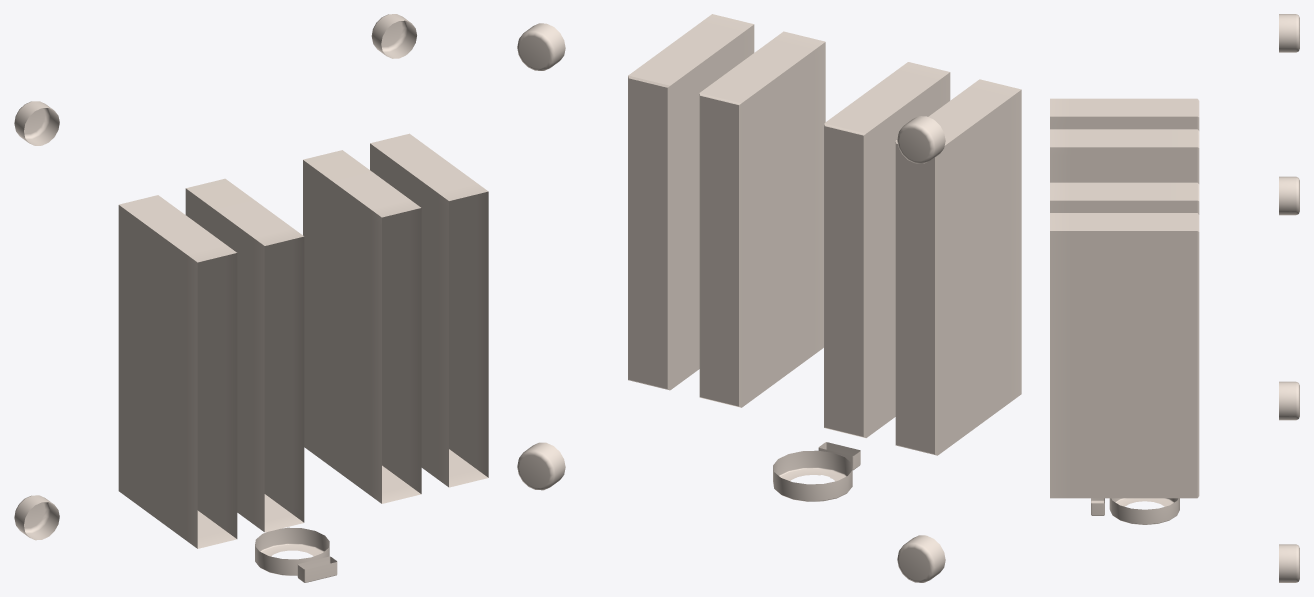
Rendered from MeshToaster_27_0_GeomSubset_2.obj.
3 views of the same model, side by side, from view 1: azimuth 30°, elevation 25°; view 2: azimuth 150°, elevation 25°; view 3: azimuth 270°, elevation 25° (orthographic). The views are drawn at different scales.
Visible parts, largest first — view 1: MeshToaster_27_0_GeomSubset_2; view 2: MeshToaster_27_0_GeomSubset_2; view 3: MeshToaster_27_0_GeomSubset_2.
Part boxes in pixels (x1,y1,x2,y2): MeshToaster_27_0_GeomSubset_2: (14, 14, 488, 582); MeshToaster_27_0_GeomSubset_2: (517, 14, 1021, 582); MeshToaster_27_0_GeomSubset_2: (1050, 14, 1299, 582).
Bounding box in the file's own units: 0.2976 × 0.3205 × 0.1755.
